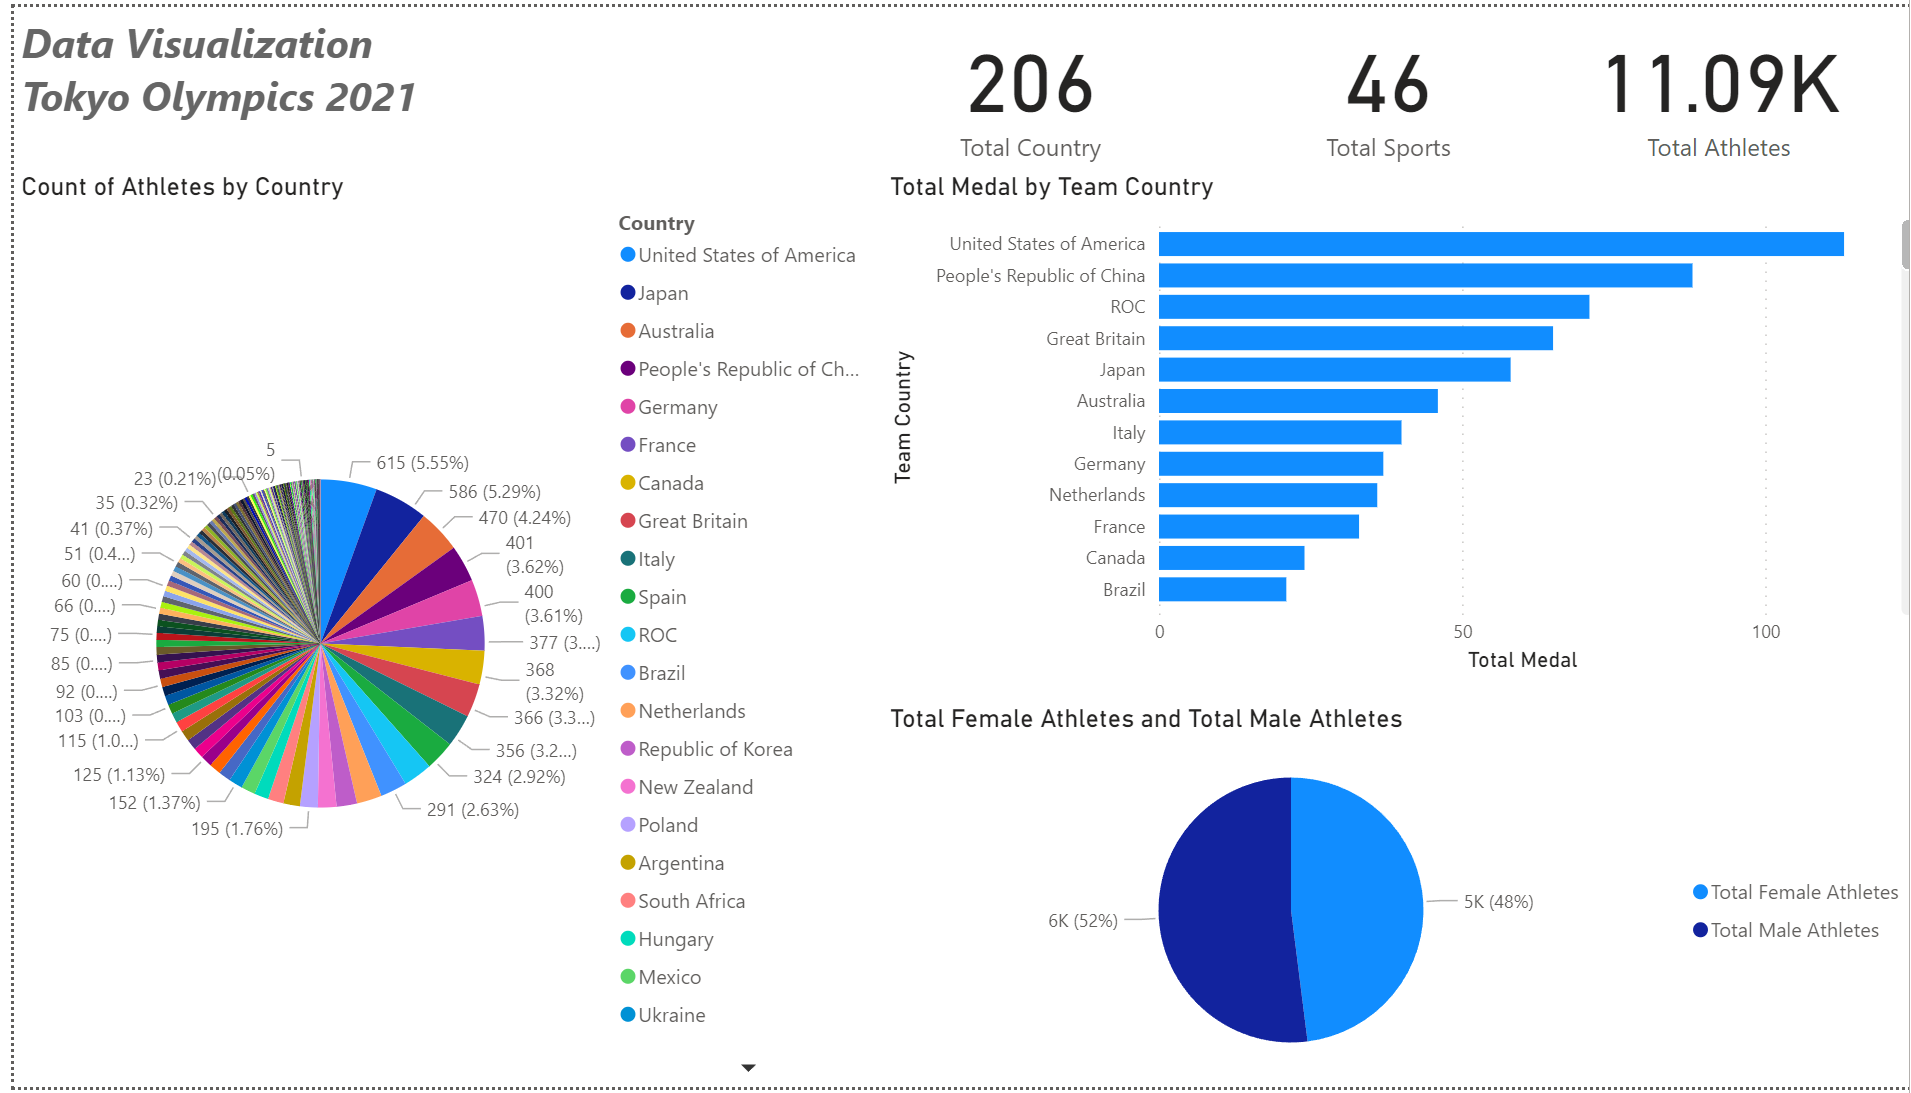

Layout of this report page (visuals, bound fields, positions):
{"tool":"powerbi","page":{"name":"Page 2","canvas":[1280,720],"ordinal":0},"visuals":[{"type":"barChart","fields":{"Category":["Medals.Team_Country"],"Y":["Medals.Total"]},"box":[579,108.6,691.6,338.8],"z":0},{"type":"pieChart","fields":{"Category":["Athletes.Country"],"Y":["Athletes.PersonName"]},"box":[0,108.6,579,611.2],"z":1},{"type":"pieChart","fields":{"Y":["EntriesGender.Female","EntriesGender.Male"]},"box":[579,464.4,691.6,255.3],"z":2},{"type":"textbox","box":[0,0,589.1,108.6],"z":3},{"type":"card","fields":{"Values":["Athletes.Country"]},"box":[536.8,0,281.5,108.6],"z":4},{"type":"card","fields":{"Values":["Athletes.Discipline"]},"box":[785.1,0,262.4,108.6],"z":5},{"type":"card","fields":{"Values":["Athletes.PersonName"]},"box":[993.2,0,286.5,108.6],"z":6}]}

Visuals, with their boxes in screenshot pixels (x1, y1, x2, y2), scaled from the page's 1280x720 canvas onto the 1911x1093 screenshot:
barChart - Medals.Team_Country x Medals.Total: 864,165,1897,679
pieChart - Athletes.Country x Athletes.PersonName: 0,165,864,1092
pieChart - EntriesGender.Female x EntriesGender.Male: 864,705,1897,1092
textbox: 0,0,880,165
card - Athletes.Country: 801,0,1222,165
card - Athletes.Discipline: 1172,0,1564,165
card - Athletes.PersonName: 1483,0,1910,165
